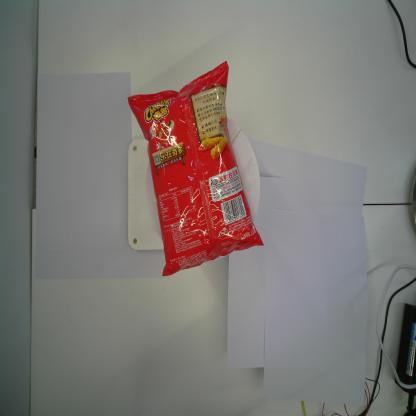Puffed Food: (127, 60, 265, 278)
